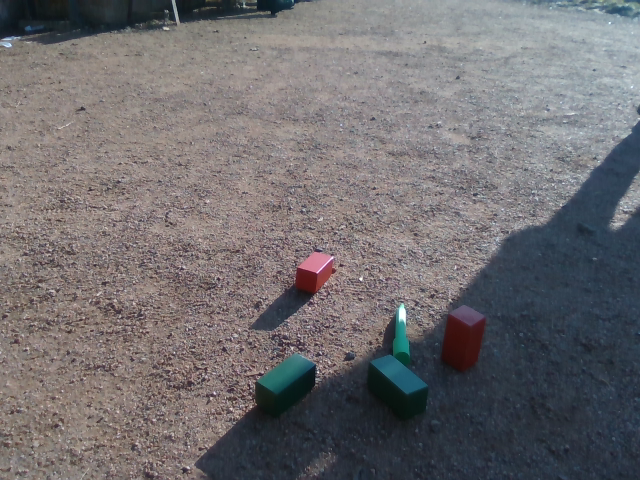Probe: (393, 304, 412, 365)
